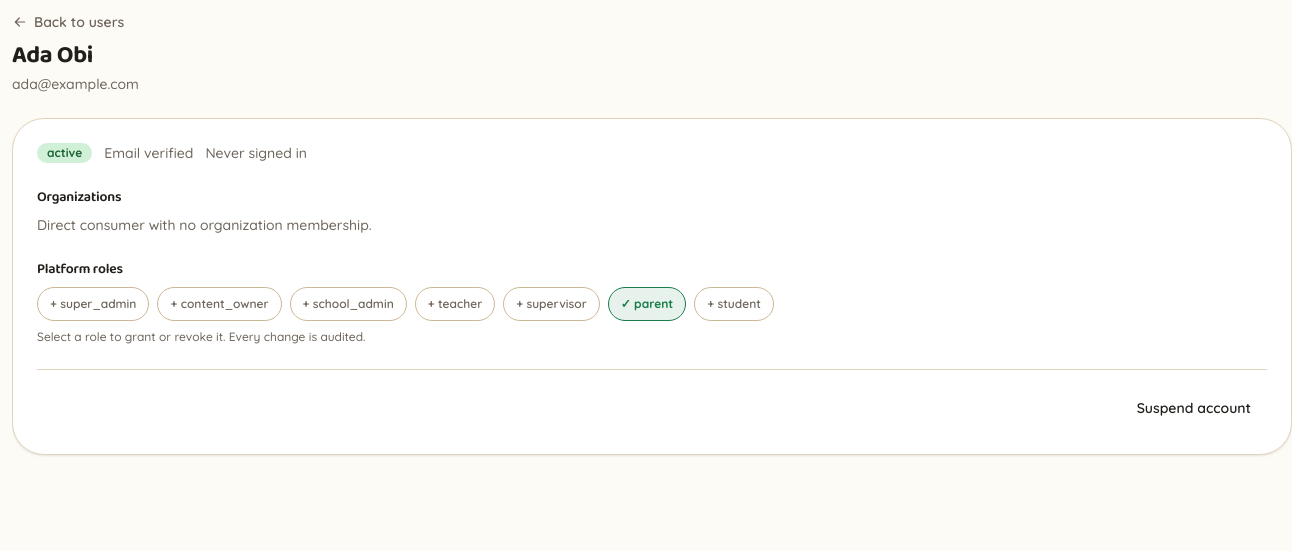
UsersPage and UserDetailPage › surfaces a self-suspension response
This screenshot has width=1292, height=551.
Step 1. Click the button "Suspend account" → (1194, 408), box [1121, 386, 1267, 430]
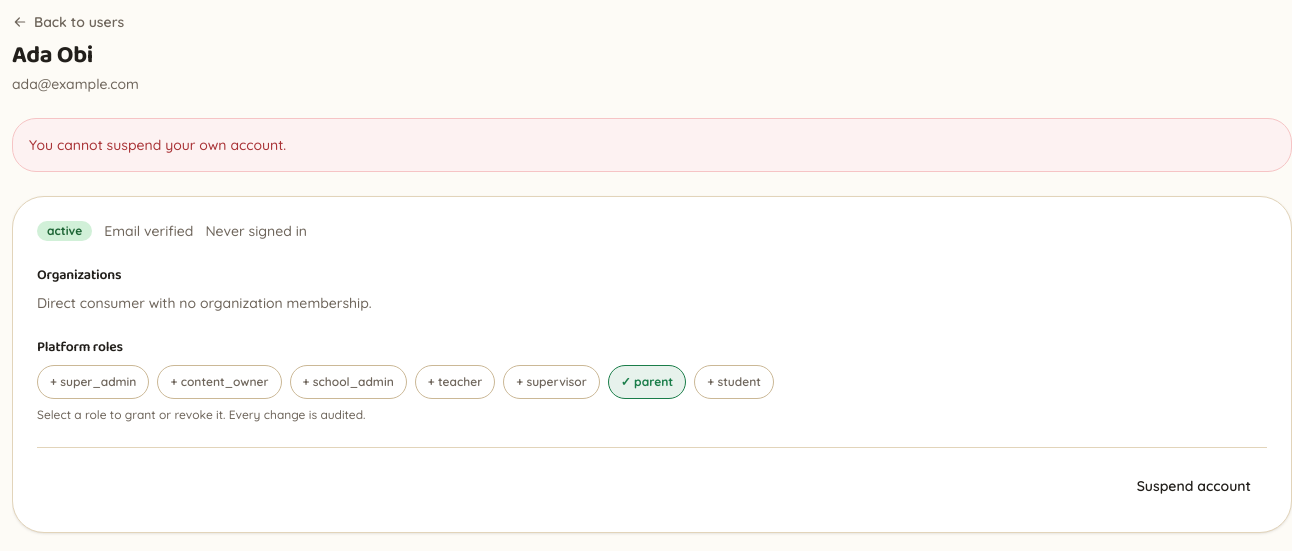
Check: the text "You cannot suspend your own account." is shown, box [29, 135, 286, 155]
